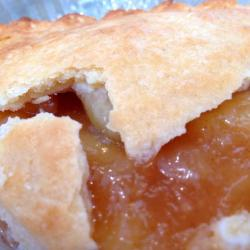apple_pie: (6, 15, 231, 232)
